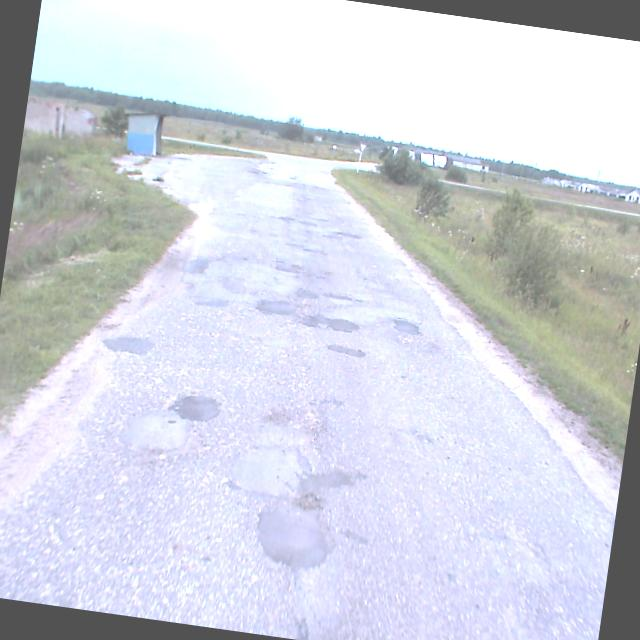road: (0, 151, 615, 640)
